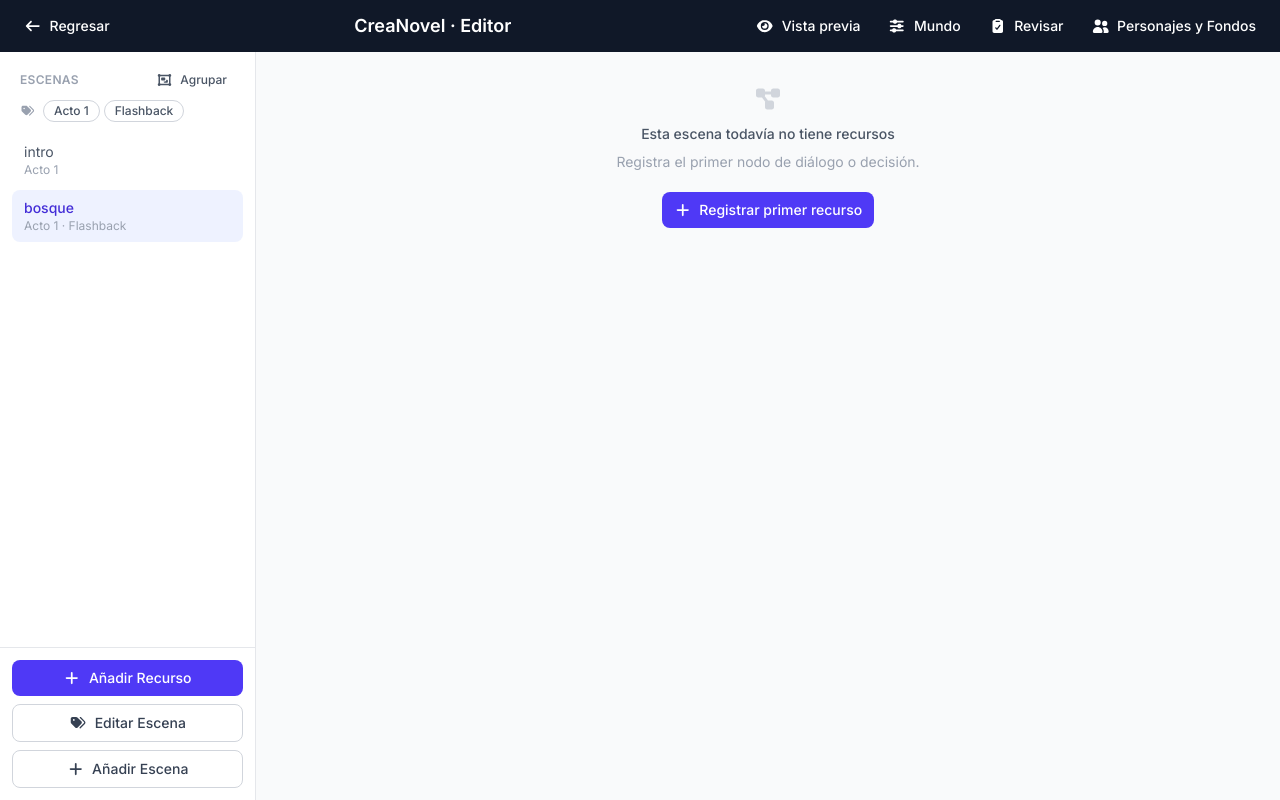
Test: NovelaCreatorPageComponent — etiquetas de escenas › el botón de editar la escena solo aparece con una escena abierta y abre el formulario con sus etiquetas
Click the button with aria-label "Editar la escena y sus etiquetas".
click(128, 723)  # box [12, 704, 243, 742]
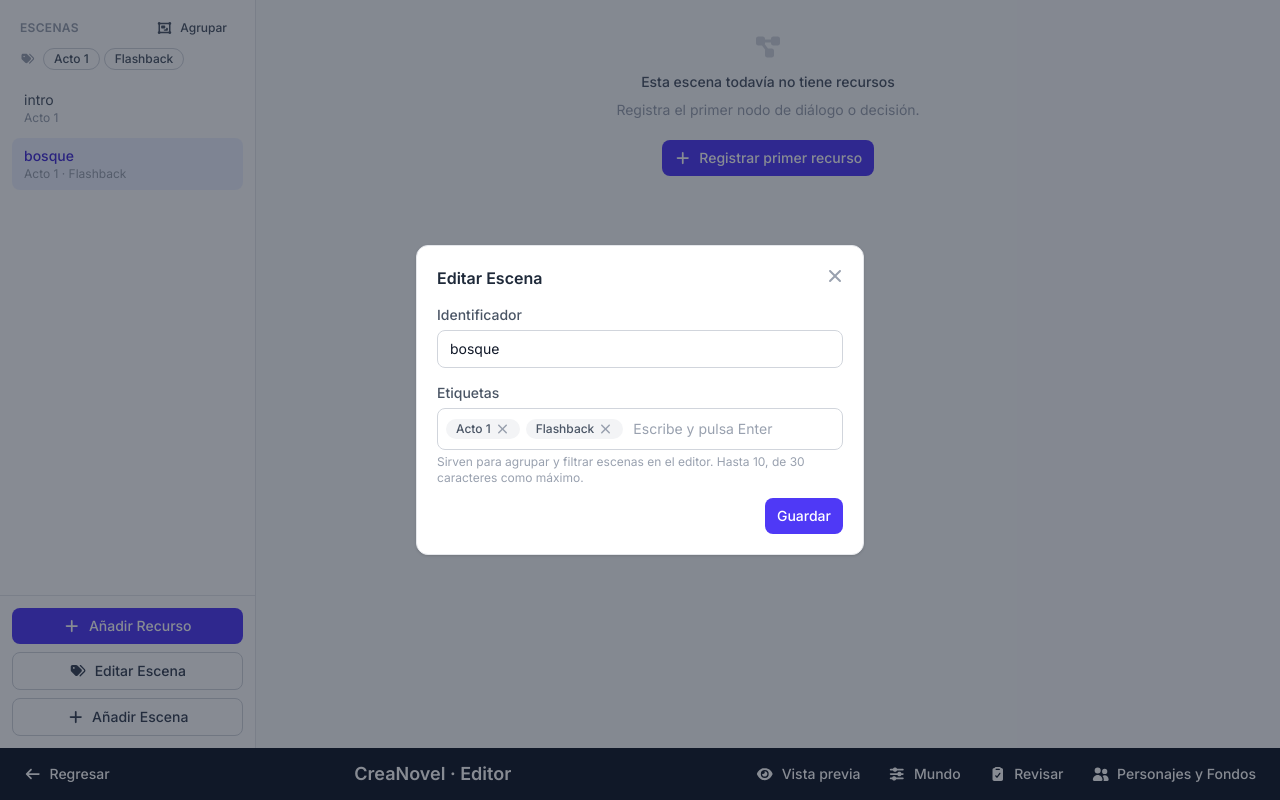
Check: the text "Editar Escena" is shown, box [437, 268, 542, 288]
Check: the field with id "escena-identificador" holds "bosque", box [437, 330, 843, 368]
